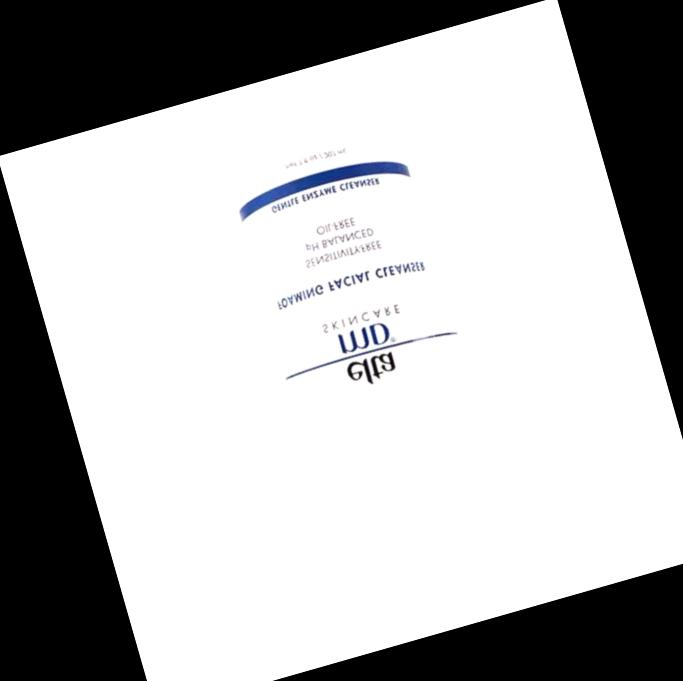cosmetic: (223, 94, 523, 605)
